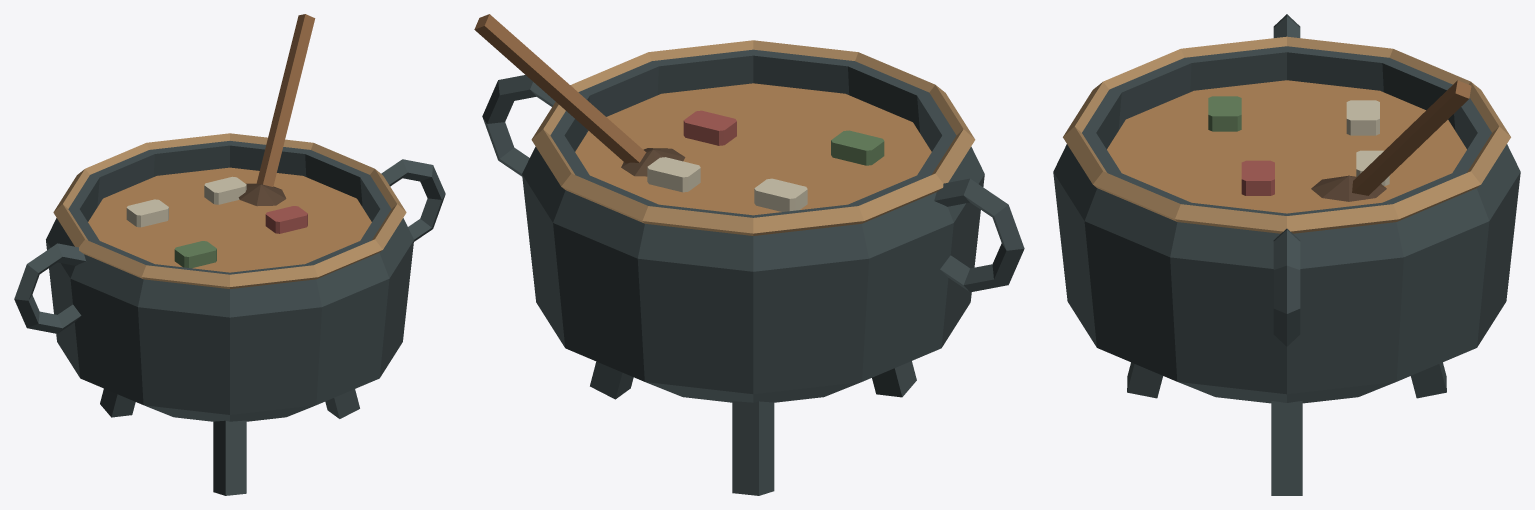
File: picnic_pot.glb
3 views of the same model, side by side, from view 1: azimuth 30°, elevation 25°; view 2: azimuth 150°, elevation 25°; view 3: azimuth 270°, elevation 25° (orthographic). The views are drawn at different scales.
Visible parts, largest first — view 1: geometry; view 2: geometry; view 3: geometry.
Boxes of the visible parts, <box> form: geometry: <box>14,14,445,495</box>; geometry: <box>474,14,1024,495</box>; geometry: <box>1053,14,1520,495</box>.
Bounding box in the file's own units: 1.33 × 1.01 × 0.98.
